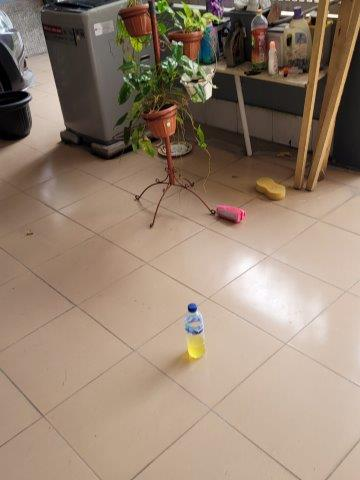botolplastik: (248, 10, 268, 66), (186, 305, 205, 360)
